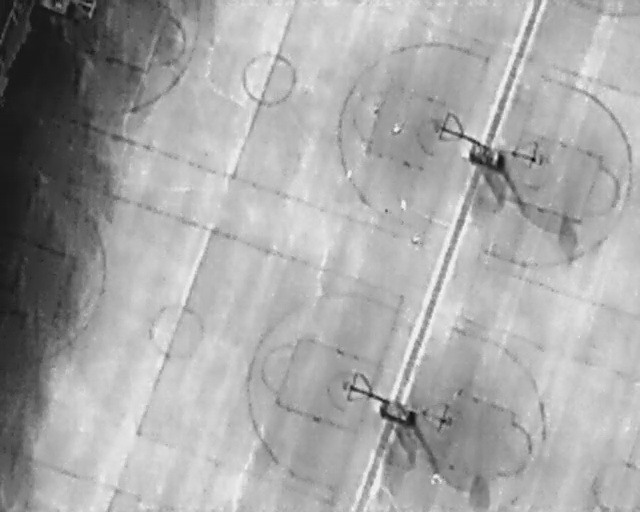Person: (428, 471, 442, 487), (412, 233, 422, 250), (392, 122, 402, 136), (399, 196, 408, 211), (345, 167, 353, 182), (372, 104, 380, 118)
